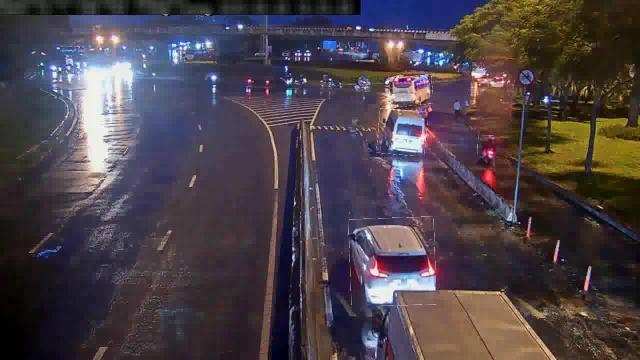Bike: (478, 136, 494, 166)
Bus: (377, 109, 427, 155), (390, 75, 432, 106)
Car: (348, 218, 436, 306)
